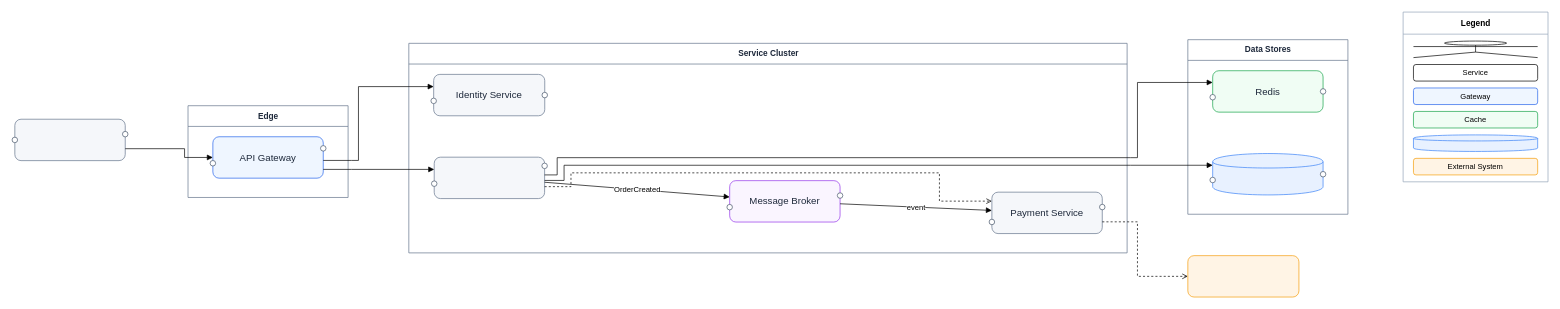
Some shapes in this 1560 by 309 pixel diagram are drawn without their labels. Each missing label, with the centre of its shape:
Actor / User: point 1475,49
Client: point 69,140
Database: point 1475,142
Order Database: point 1267,174
Order Service: point 489,177
Payment Provider: point 1243,276
